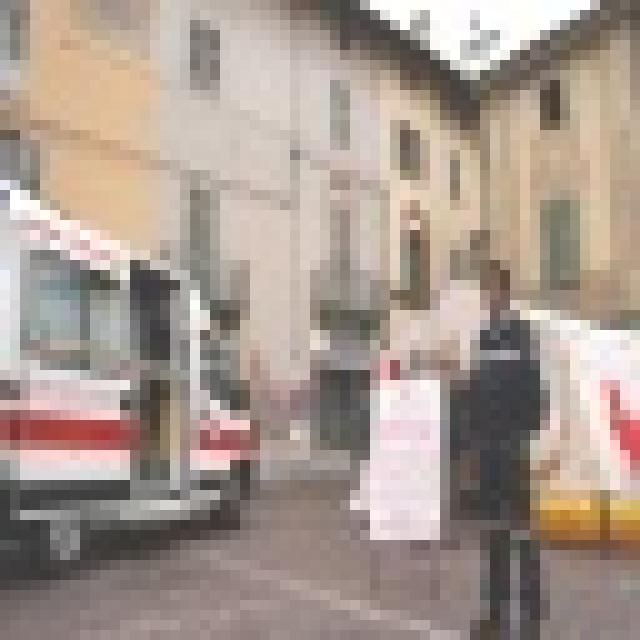Ambulance: (0, 160, 260, 570)
